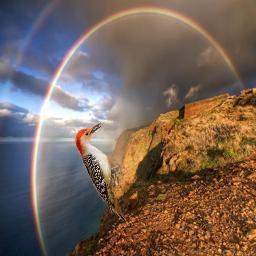Woodpecker: (75, 123, 128, 226)
